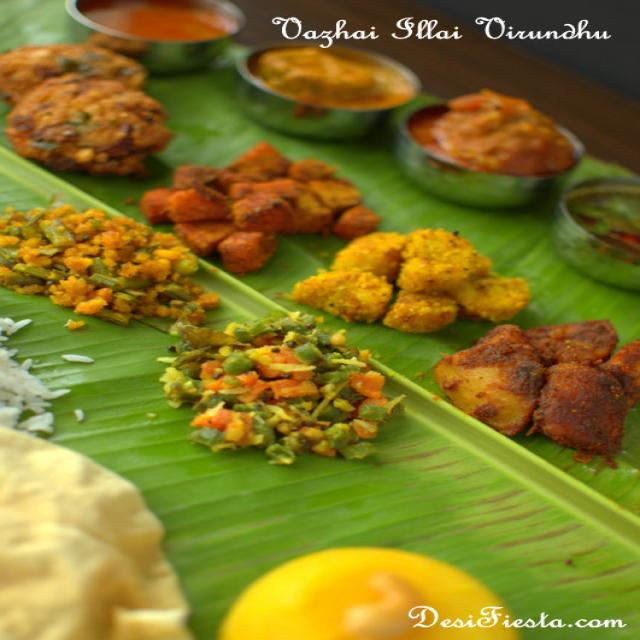veg meals: (0, 0, 640, 640)
